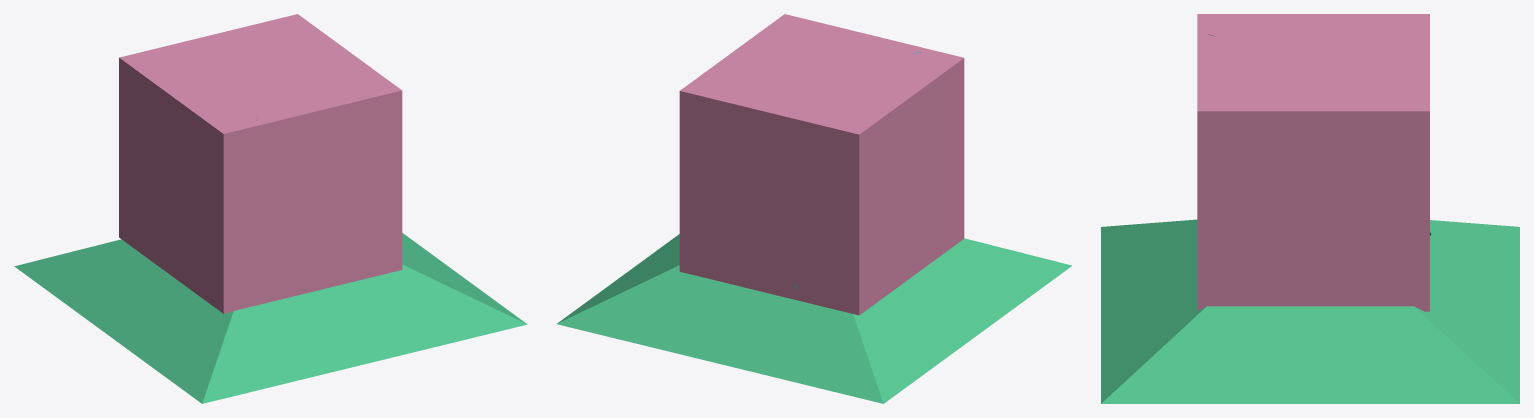
File: tree_beech_bush_a.dae
3 renders of one model, left to right at view 1: azimuth 30°, elevation 25°; view 2: azimuth 150°, elevation 25°; view 3: azimuth 270°, elevation 25°, orthographic. The views are drawn at different scales.
Parts seen in each view (by area): view 1: Untitled, Colmesh-1; view 2: Untitled, Colmesh-1; view 3: Untitled, Colmesh-1.
Boxes of the visible parts, x1,y1,x2,y2 form: Untitled: (119, 14, 402, 313); Colmesh-1: (14, 233, 527, 403); Untitled: (679, 14, 964, 315); Colmesh-1: (556, 234, 1071, 403); Untitled: (1197, 14, 1429, 311); Colmesh-1: (1101, 219, 1519, 403).
Bounding box in the file's own units: 1.99 × 1.99 × 1.3.
